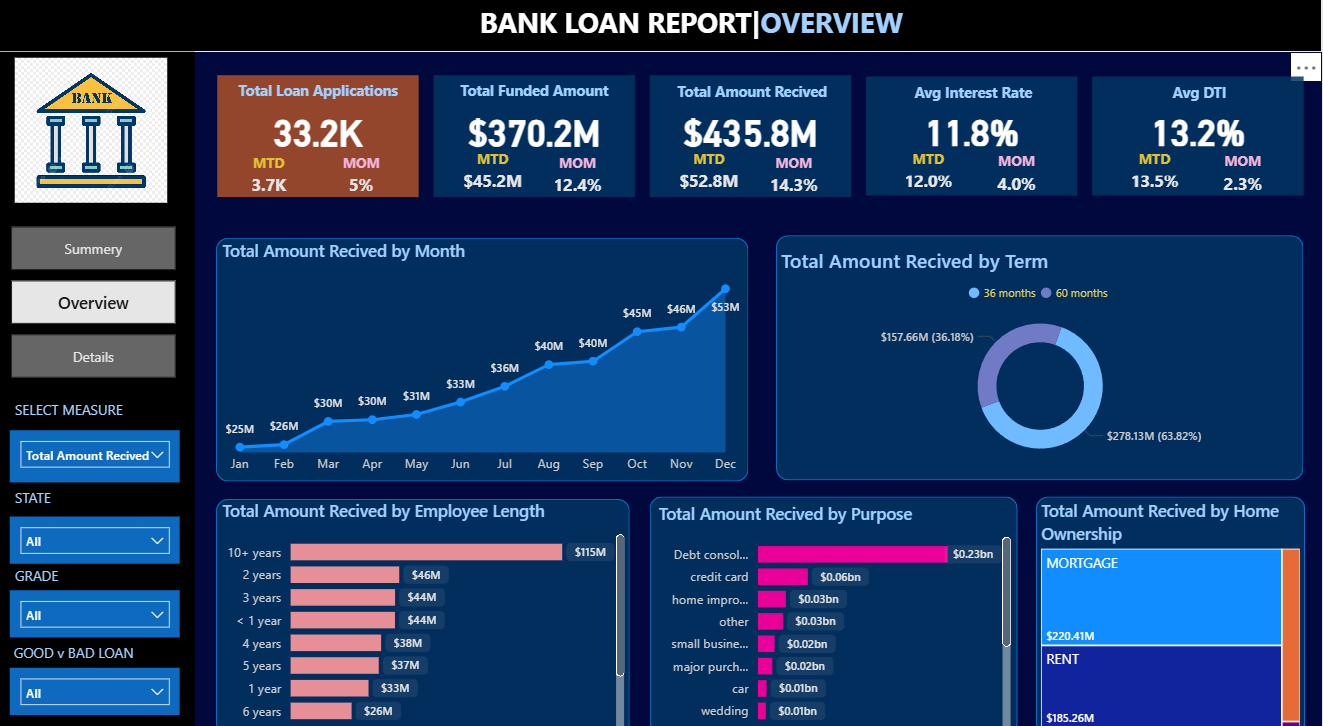

Layout of this report page (visuals, bound fields, positions):
{"tool":"powerbi","page":{"name":"Overview","canvas":[1280,720],"ordinal":1},"visuals":[{"type":"shape","box":[0,0,1279.7,55.4],"z":0},{"type":"shape","box":[213.5,78.4,194.6,117.6],"z":0,"group":"g1"},{"type":"shape","box":[422.3,78.4,194.6,117.6],"z":0,"group":"g2"},{"type":"shape","box":[631.1,78.4,194.6,117.6],"z":0,"group":"g3"},{"type":"shape","box":[839.9,79.7,204.1,114.9],"z":0,"group":"g4"},{"type":"shape","box":[1058.1,79.7,204.1,114.9],"z":0,"group":"g5"},{"type":"shape","box":[0,55.4,191.9,664.9],"z":1000},{"type":"card","fields":{"Values":["financial_loan.Total Loan Applications"]},"box":[213.5,110.8,194.6,41.9],"z":1000,"group":"g1"},{"type":"card","fields":{"Values":["financial_loan.Total Funded Amount"]},"box":[422.3,110.8,194.6,41.9],"z":1000,"group":"g2"},{"type":"card","fields":{"Values":["financial_loan.Total Amount Recived"]},"box":[631.1,110.8,194.6,41.9],"z":1000,"group":"g3"},{"type":"card","fields":{"Values":["financial_loan.Avg Intrest Rate"]},"box":[839.9,111.4,204.1,40.9],"z":1000,"group":"g4"},{"type":"card","fields":{"Values":["financial_loan.Avg DTI"]},"box":[1058.1,111.4,204.1,40.9],"z":1000,"group":"g5"},{"type":"textbox","box":[213.5,78.4,194.6,32.4],"z":2000,"group":"g1"},{"type":"textbox","box":[422.3,78.4,194.6,32.4],"z":2000,"group":"g2"},{"type":"textbox","box":[634.5,79.2,190.5,31.1],"z":2000,"group":"g3"},{"type":"textbox","box":[843.5,80.5,199.8,30.4],"z":2000,"group":"g4"},{"type":"textbox","box":[1061.7,80.5,199.8,30.4],"z":2000,"group":"g5"},{"type":"shape","box":[212.3,235.3,513.9,235.3],"z":2000},{"type":"textbox","box":[459.5,4.1,423,47.3],"z":3000},{"type":"card","title":"MTD","fields":{"Values":["financial_loan.MTD AVG Int Rate"]},"box":[860.5,149.8,79.4,42.2],"z":3000,"group":"g4"},{"type":"card","title":"MTD","fields":{"Values":["financial_loan.MTD AVG DTI"]},"box":[1078.7,149.8,79.4,42.2],"z":3000,"group":"g5"},{"type":"card","title":"MTD","fields":{"Values":["financial_loan.MTD Funded Amount"]},"box":[441.9,150.1,75.7,43.2],"z":3000,"group":"g2"},{"type":"card","title":"MTD","fields":{"Values":["financial_loan.MTD Amount Recived"]},"box":[650.7,150.1,75.7,43.2],"z":3000,"group":"g3"},{"type":"card","title":"MTD","fields":{"Values":["financial_loan.MTD Loan Applications"]},"box":[232.4,152.7,60.8,43.2],"z":3000,"group":"g1"},{"type":"group","id":"g1","title":"Group 1","box":[213.5,78.4,194.6,117.6],"z":4000},{"type":"card","title":"MOM","fields":{"Values":["financial_loan.MOM Avg Int Rate"]},"box":[953.3,152.3,63.8,42.2],"z":4000,"group":"g4"},{"type":"card","title":"MOM","fields":{"Values":["financial_loan.MOM Avg DTI"]},"box":[1171.5,152.3,63.8,42.2],"z":4000,"group":"g5"},{"type":"card","title":"MOM","fields":{"Values":["financial_loan.MOM Loan Application"]},"box":[321.6,152.7,60.8,43.2],"z":4000,"group":"g1"},{"type":"card","title":"MOM","fields":{"Values":["financial_loan.MOM Total Funded Amount"]},"box":[530.4,152.7,60.8,43.2],"z":4000,"group":"g2"},{"type":"card","title":"MOM","fields":{"Values":["financial_loan.MOM Amount Recived"]},"box":[739.2,152.7,60.8,43.2],"z":4000,"group":"g3"},{"type":"group","id":"g2","title":"Group 1","box":[422.3,78.4,194.6,117.6],"z":5000},{"type":"group","id":"g3","title":"Group 1","box":[631.1,78.4,194.6,117.6],"z":6000},{"type":"group","id":"g4","title":"Group 1","box":[839.9,79.7,204.1,114.9],"z":7000},{"type":"group","id":"g5","title":"Group 1","box":[1058.1,79.7,204.1,114.9],"z":8000},{"type":"slicer","fields":{"Values":["financial_loan.address_state"]},"box":[12.9,504.3,164.3,45.7],"z":9000},{"type":"textbox","box":[12.9,471.4,82.9,32.9],"z":10000},{"type":"slicer","fields":{"Values":["financial_loan.grade"]},"box":[12.9,575.7,164.3,45.7],"z":11000},{"type":"textbox","box":[12.9,547.1,62.9,28.6],"z":12000},{"type":"slicer","fields":{"Values":["financial_loan.Good v Bad Loan"]},"box":[12.9,650,164.3,45.7],"z":13000},{"type":"textbox","box":[12.4,621,134.8,28.5],"z":14000},{"type":"areaChart","fields":{"Y":["financial_loan.Total Amount Recived"],"Category":["Date Table.Month"]},"box":[213.5,236.5,512.7,235.3],"z":15000},{"type":"slicer","fields":{"Values":["Select Measure.Select Measure"]},"box":[12.9,421.4,164.3,50],"z":16000},{"type":"textbox","box":[12.9,387.1,117.1,32.9],"z":17000},{"type":"shape","box":[752.8,232.8,509.1,236.5],"z":19000},{"type":"donutChart","fields":{"Y":["financial_loan.Total Amount Recived"],"Category":["financial_loan.term"]},"box":[752.8,244.9,510.3,214.7],"z":20000},{"type":"shape","box":[212.3,487.4,399.3,228],"z":21000},{"type":"barChart","fields":{"Y":["financial_loan.Total Amount Recived"],"Category":["financial_loan.emp_length"]},"box":[213.5,487.4,398.1,228],"z":22000},{"type":"shape","box":[630.8,484.9,355,230.1],"z":23000},{"type":"barChart","fields":{"Y":["financial_loan.Total Amount Recived"],"Category":["financial_loan.purpose"]},"box":[634.6,489.8,350.1,225.1],"z":24000},{"type":"shape","box":[1003.2,484.9,259.8,230.1],"z":25000},{"type":"treemap","fields":{"Values":["financial_loan.Total Amount Recived"],"Group":["financial_loan.home_ownership"]},"box":[1003.2,487.4,259.8,225.1],"z":26000},{"type":"pageNavigator","box":[14.8,223.9,159.6,148.4],"z":27000},{"type":"image","box":[13.3,56.7,156.8,149.6],"z":28000}]}

Visuals, with their boxes in screenshot pixels (x1, y1, x2, y2), scaled from the page's 1280x720 canvas onto the 1323x726 screenshot:
shape: <bbox>0, 0, 1322, 56</bbox>
shape: <bbox>221, 79, 422, 198</bbox>
shape: <bbox>436, 79, 638, 198</bbox>
shape: <bbox>652, 79, 853, 198</bbox>
shape: <bbox>868, 80, 1079, 196</bbox>
shape: <bbox>1094, 80, 1305, 196</bbox>
shape: <bbox>0, 56, 198, 725</bbox>
card - financial_loan.Total Loan Applications: <bbox>221, 112, 422, 154</bbox>
card - financial_loan.Total Funded Amount: <bbox>436, 112, 638, 154</bbox>
card - financial_loan.Total Amount Recived: <bbox>652, 112, 853, 154</bbox>
card - financial_loan.Avg Intrest Rate: <bbox>868, 112, 1079, 154</bbox>
card - financial_loan.Avg DTI: <bbox>1094, 112, 1305, 154</bbox>
textbox: <bbox>221, 79, 422, 112</bbox>
textbox: <bbox>436, 79, 638, 112</bbox>
textbox: <bbox>656, 80, 853, 111</bbox>
textbox: <bbox>872, 81, 1078, 112</bbox>
textbox: <bbox>1097, 81, 1304, 112</bbox>
shape: <bbox>219, 237, 751, 475</bbox>
textbox: <bbox>475, 4, 912, 52</bbox>
"MTD" card: <bbox>889, 151, 971, 194</bbox>
"MTD" card: <bbox>1115, 151, 1197, 194</bbox>
"MTD" card: <bbox>457, 151, 535, 195</bbox>
"MTD" card: <bbox>673, 151, 751, 195</bbox>
"MTD" card: <bbox>240, 154, 303, 198</bbox>
"Group 1" group: <bbox>221, 79, 422, 198</bbox>
"MOM" card: <bbox>985, 154, 1051, 196</bbox>
"MOM" card: <bbox>1211, 154, 1277, 196</bbox>
"MOM" card: <bbox>332, 154, 395, 198</bbox>
"MOM" card: <bbox>548, 154, 611, 198</bbox>
"MOM" card: <bbox>764, 154, 827, 198</bbox>
"Group 1" group: <bbox>436, 79, 638, 198</bbox>
"Group 1" group: <bbox>652, 79, 853, 198</bbox>
"Group 1" group: <bbox>868, 80, 1079, 196</bbox>
"Group 1" group: <bbox>1094, 80, 1305, 196</bbox>
slicer - financial_loan.address_state: <bbox>13, 509, 183, 555</bbox>
textbox: <bbox>13, 475, 99, 509</bbox>
slicer - financial_loan.grade: <bbox>13, 580, 183, 627</bbox>
textbox: <bbox>13, 552, 78, 580</bbox>
slicer - financial_loan.Good v Bad Loan: <bbox>13, 655, 183, 701</bbox>
textbox: <bbox>13, 626, 152, 655</bbox>
areaChart - financial_loan.Total Amount Recived x Date Table.Month: <bbox>221, 238, 751, 476</bbox>
slicer - Select Measure.Select Measure: <bbox>13, 425, 183, 475</bbox>
textbox: <bbox>13, 390, 134, 424</bbox>
shape: <bbox>778, 235, 1304, 473</bbox>
donutChart - financial_loan.Total Amount Recived x financial_loan.term: <bbox>778, 247, 1306, 463</bbox>
shape: <bbox>219, 491, 632, 721</bbox>
barChart - financial_loan.Total Amount Recived x financial_loan.emp_length: <bbox>221, 491, 632, 721</bbox>
shape: <bbox>652, 489, 1019, 721</bbox>
barChart - financial_loan.Total Amount Recived x financial_loan.purpose: <bbox>656, 494, 1018, 721</bbox>
shape: <bbox>1037, 489, 1305, 721</bbox>
treemap - financial_loan.Total Amount Recived x financial_loan.home_ownership: <bbox>1037, 491, 1305, 718</bbox>
pageNavigator: <bbox>15, 226, 180, 375</bbox>
image: <bbox>14, 57, 176, 208</bbox>
